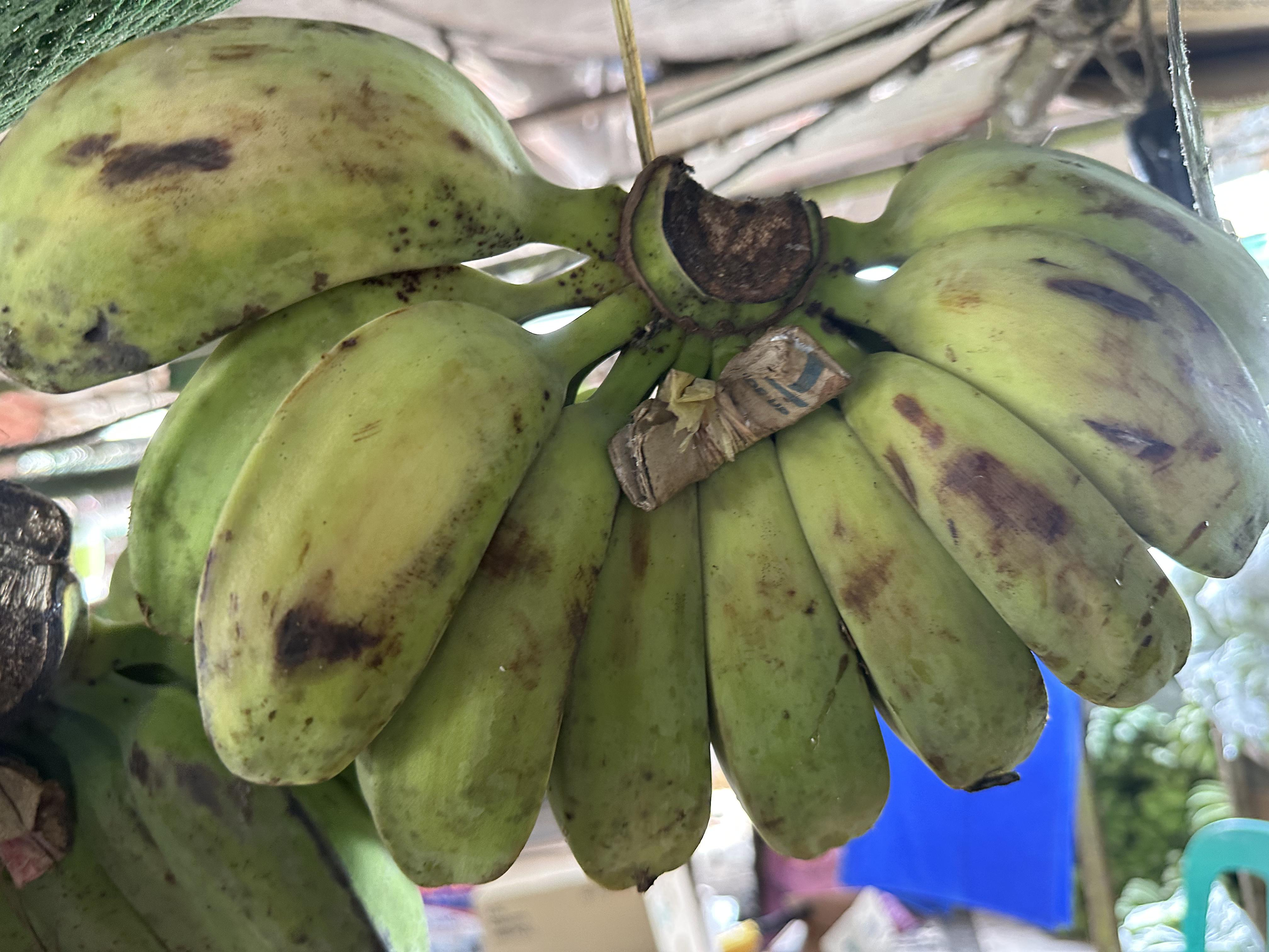underripe: (0, 17, 1269, 891), (0, 693, 428, 952)
